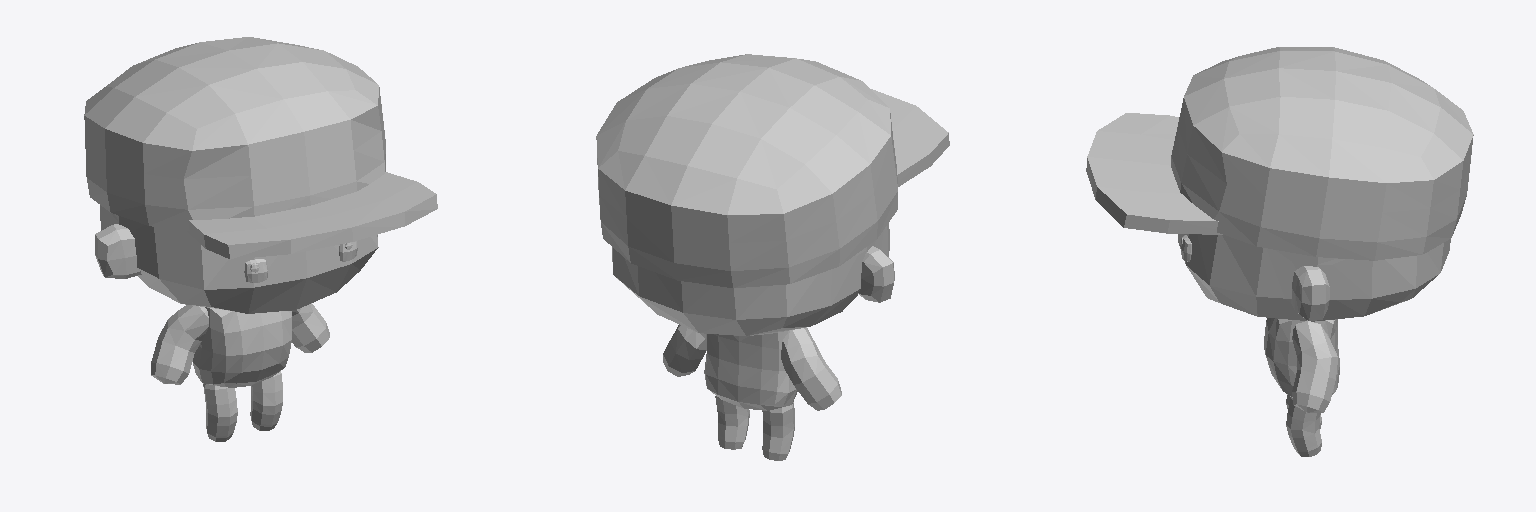
The model's file is idle_0030.obj.
3 renders of one model, left to right at view 1: azimuth 30°, elevation 25°; view 2: azimuth 150°, elevation 25°; view 3: azimuth 270°, elevation 25°, orthographic.
Visible parts, largest first — view 1: Object_41, Object_42, Object_36, Object_44, Object_38; view 2: Object_41, Object_44, Object_36, Object_42; view 3: Object_41, Object_36, Object_42, Object_44.
Part boxes in pixels (x1,y1,x2,y2): Object_41: (84,37,385,230); Object_42: (184,106,437,259); Object_36: (95,205,378,313); Object_44: (151,303,329,441); Object_38: (244,241,357,282); Object_41: (596,54,897,287); Object_44: (663,324,841,460); Object_36: (612,223,894,335); Object_42: (871,89,949,186); Object_41: (1184,47,1473,260); Object_36: (1178,234,1450,321); Object_42: (1086,98,1226,234); Object_44: (1264,318,1339,456).
Bounding box in the file's own units: 0.9691 × 1.22 × 1.14.